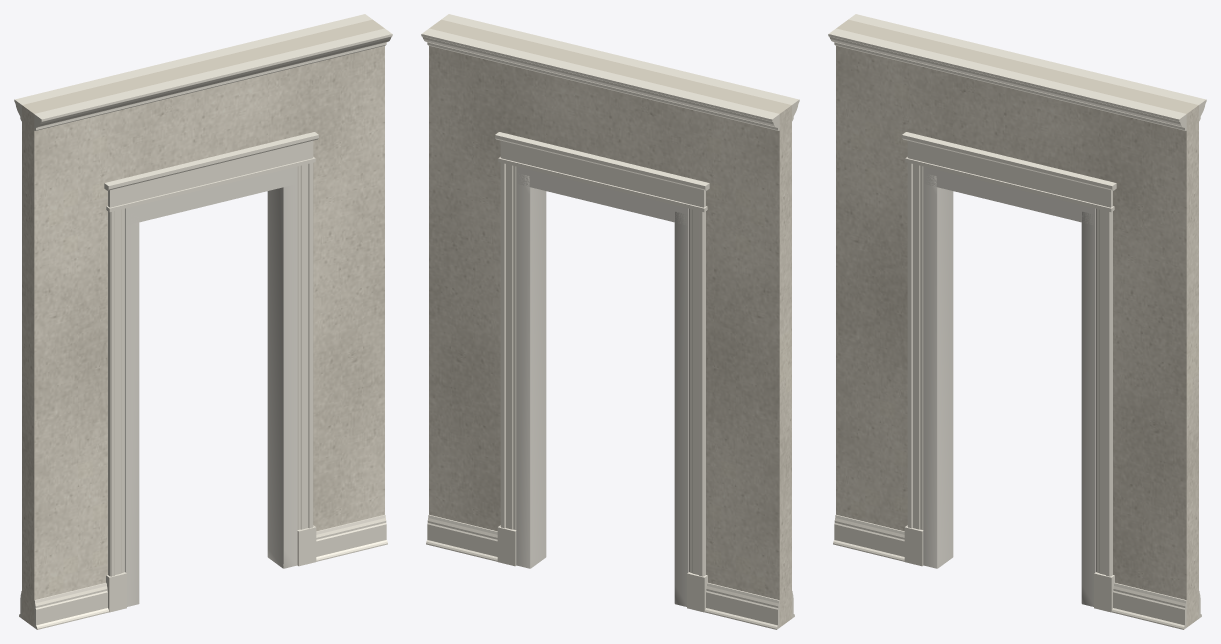
File: interior_wall_doorway.glb
3 views of the same model, side by side, from view 1: azimuth 30°, elevation 25°; view 2: azimuth 150°, elevation 25°; view 3: azimuth 330°, elevation 25° (orthographic).
Visible parts, largest first — view 1: interior_wall_doorway_plaster, molduras, interior_wall_doorway_frame; view 2: interior_wall_doorway_plaster, molduras, interior_wall_doorway_frame; view 3: interior_wall_doorway_plaster, molduras, interior_wall_doorway_frame.
Part boxes in pixels (box(x1,y1,x2,y2)): interior_wall_doorway_plaster: box(22, 19, 384, 627); molduras: box(14, 14, 392, 629); interior_wall_doorway_frame: box(125, 166, 297, 606); interior_wall_doorway_plaster: box(429, 19, 791, 627); molduras: box(421, 14, 799, 629); interior_wall_doorway_frame: box(516, 166, 688, 606); interior_wall_doorway_plaster: box(836, 19, 1198, 627); molduras: box(828, 14, 1206, 629); interior_wall_doorway_frame: box(923, 166, 1095, 606).
Bounding box in the file's own units: 2 × 2.8 × 0.27.
3 materials, 1 textured.
